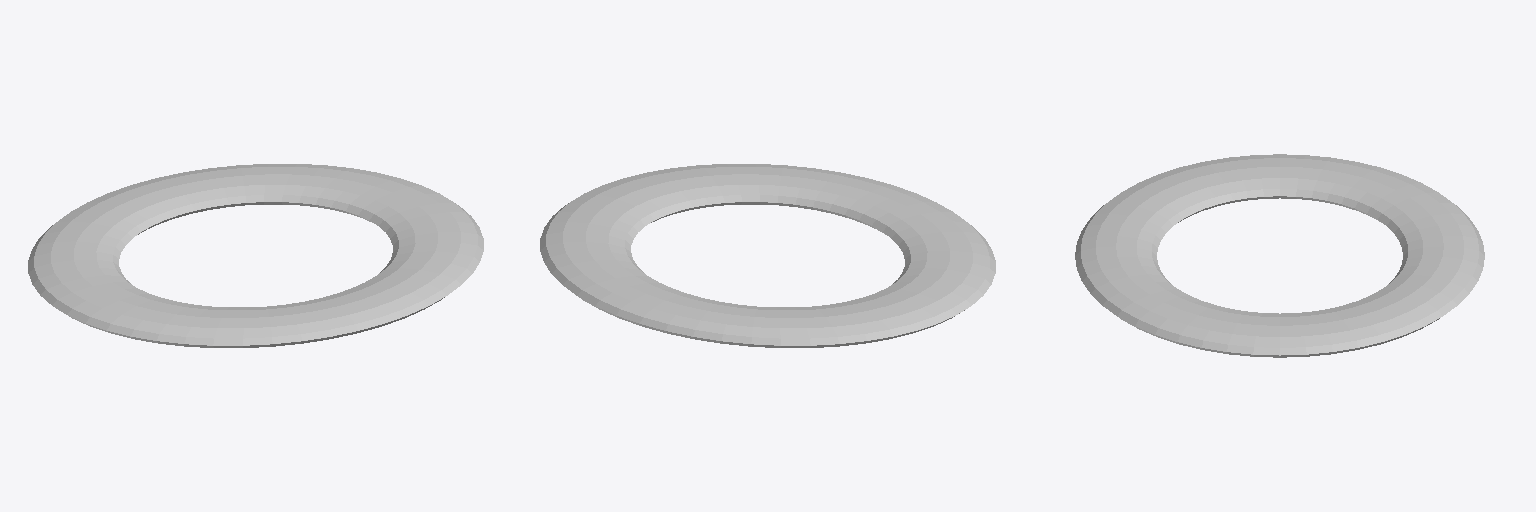
Rendered from attackEffect.obj.
3 views of the same model, side by side, from view 1: azimuth 30°, elevation 25°; view 2: azimuth 150°, elevation 25°; view 3: azimuth 270°, elevation 25° (orthographic).
Visible parts, largest first — view 1: トーラス; view 2: トーラス; view 3: トーラス.
Part boxes in pixels (x1,y1,x2,y2): トーラス: (28, 164, 483, 347); トーラス: (540, 164, 995, 347); トーラス: (1075, 154, 1484, 357).
Size of the model in its own units: 2.45 by 0.1116 by 2.13.